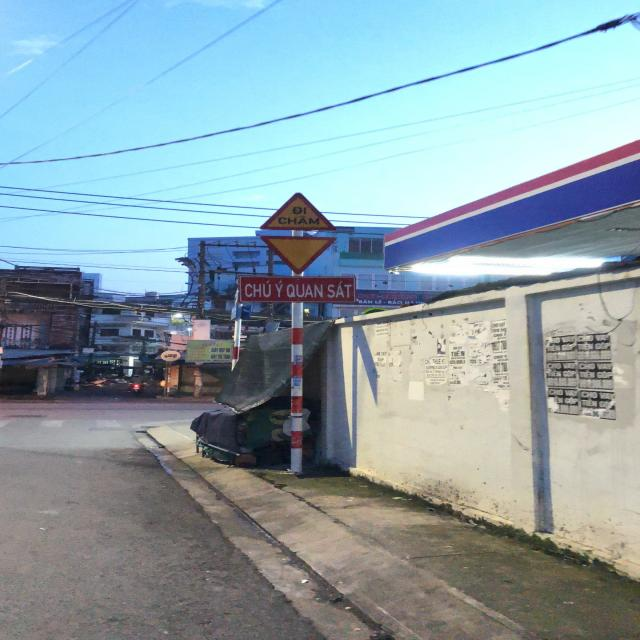Bien bao di cham: (256, 190, 343, 232)
Bien bao giao nhau voi duong uu tien: (253, 233, 343, 276)
